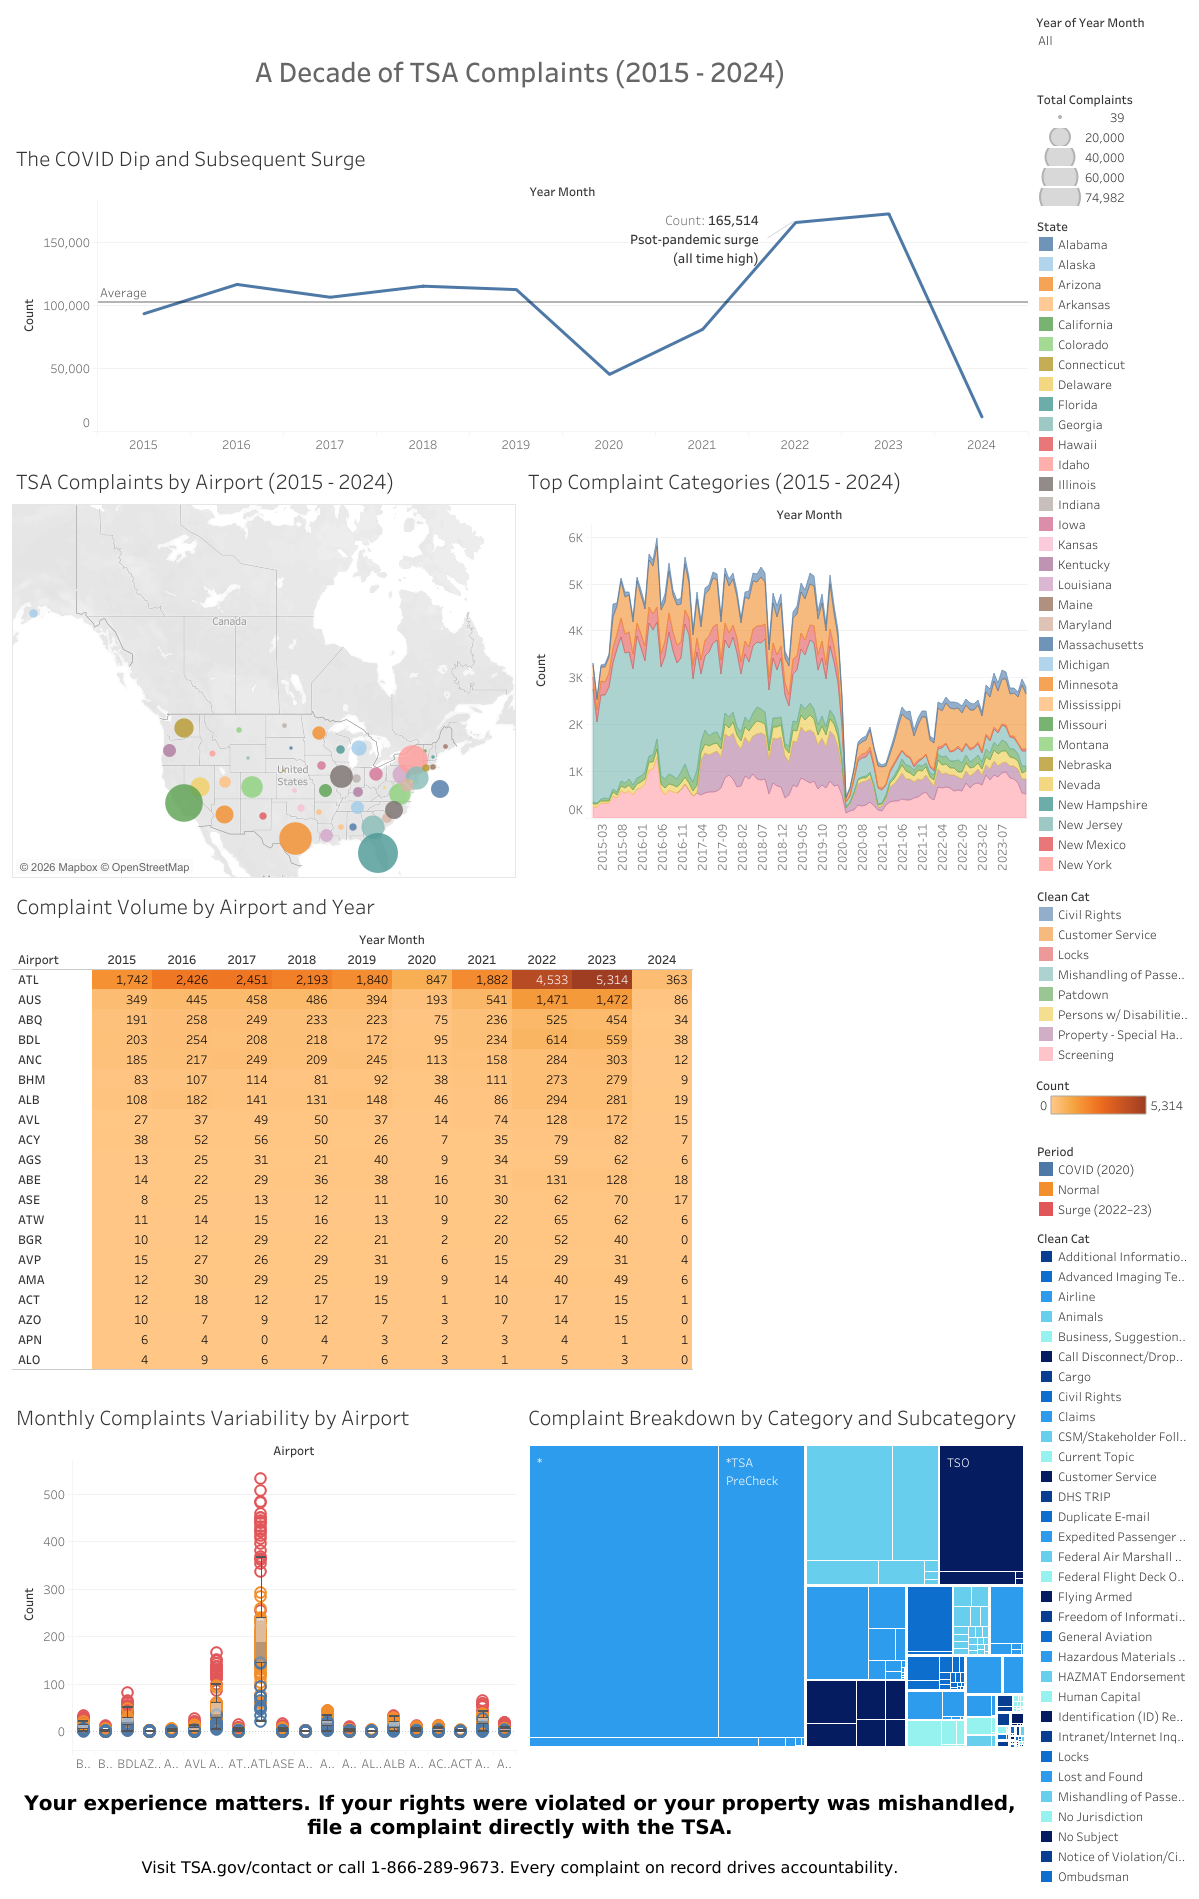

Layout of this report page (visuals, bound fields, positions):
{"tool":"tableau","page":{"name":"Dashboard 1","canvas":[1200,1900],"ordinal":0},"visuals":[{"type":"text","box":[8,8,1024,126]},{"type":"filter","title":"Sheet 2 - Trend Line","param":"[federated.0326fg1000eg0v1ahnmy00fic3bo].[yr:year_month:ok]","box":[1032,8,160,75]},{"type":"legend","title":"Sheet 1 - Bubble Map","param":"[federated.1pp6d3o1cqxzig1djojec19sdi61].[sum:total_complaints:qk]","box":[1032,83,160,126]},{"type":"worksheet","title":"Sheet 2 - Trend Line","mark":"Line","rows":["count"],"cols":["year_month"],"box":[8,134,1024,323]},{"type":"legend","title":"Sheet 1 - Bubble Map","param":"[federated.1pp6d3o1cqxzig1djojec19sdi61].[none:state:nk]","box":[1032,209,160,673]},{"type":"worksheet","title":"Sheet 1 - Bubble Map","mark":"Circle","rows":["latitude"],"cols":["longitude"],"box":[8,457,512,425]},{"type":"worksheet","title":"Sheet 5 - Stacked Area Chart","mark":"Area","rows":["count"],"cols":["year_month"],"box":[520,457,512,425]},{"type":"worksheet","title":"Sheet 3 - Heatmap","mark":"Square","rows":["airport"],"cols":["year_month"],"box":[8,882,1024,511]},{"type":"legend","title":"Sheet 5 - Stacked Area Chart","param":"[federated.0703agw1vwv9h016lsu5e19swet2].[none:clean_cat:nk]","box":[1032,882,160,186]},{"type":"legend","title":"Sheet 3 - Heatmap","param":"[federated.0326fg1000eg0v1ahnmy00fic3bo].[sum:count:qk]","box":[1032,1068,160,65]},{"type":"legend","title":"Sheet 4 - Box Plot","param":"[federated.0326fg1000eg0v1ahnmy00fic3bo].[none:Calculation_6781103210463234:nk]","box":[1032,1133,160,86]},{"type":"legend","title":"Sheet 6 - Treemap","param":"[federated.1erkg0a0y50ikj1eofvna0axxiss].[none:clean_cat:nk]","box":[1032,1219,160,673]},{"type":"worksheet","title":"Sheet 4 - Box Plot","mark":"Automatic","rows":["count"],"cols":["airport"],"box":[8,1393,512,383]},{"type":"worksheet","title":"Sheet 6 - Treemap","mark":"Square","box":[520,1393,512,383]},{"type":"text","box":[8,1776,1024,116]}]}

Visuals, with their boxes in screenshot pixels (x1, y1, x2, y2), scaled from the page's 1200x1900 canvas onto the 1199x1899 screenshot:
text: select_region(8, 8, 1031, 134)
"Sheet 2 - Trend Line" filter: select_region(1031, 8, 1191, 83)
"Sheet 1 - Bubble Map" legend: select_region(1031, 83, 1191, 209)
"Sheet 2 - Trend Line" worksheet (Line marks): select_region(8, 134, 1031, 457)
"Sheet 1 - Bubble Map" legend: select_region(1031, 209, 1191, 882)
"Sheet 1 - Bubble Map" worksheet (Circle marks): select_region(8, 457, 520, 882)
"Sheet 5 - Stacked Area Chart" worksheet (Area marks): select_region(520, 457, 1031, 882)
"Sheet 3 - Heatmap" worksheet (Square marks): select_region(8, 882, 1031, 1392)
"Sheet 5 - Stacked Area Chart" legend: select_region(1031, 882, 1191, 1067)
"Sheet 3 - Heatmap" legend: select_region(1031, 1067, 1191, 1132)
"Sheet 4 - Box Plot" legend: select_region(1031, 1132, 1191, 1218)
"Sheet 6 - Treemap" legend: select_region(1031, 1218, 1191, 1891)
"Sheet 4 - Box Plot" worksheet: select_region(8, 1392, 520, 1775)
"Sheet 6 - Treemap" worksheet (Square marks): select_region(520, 1392, 1031, 1775)
text: select_region(8, 1775, 1031, 1891)
